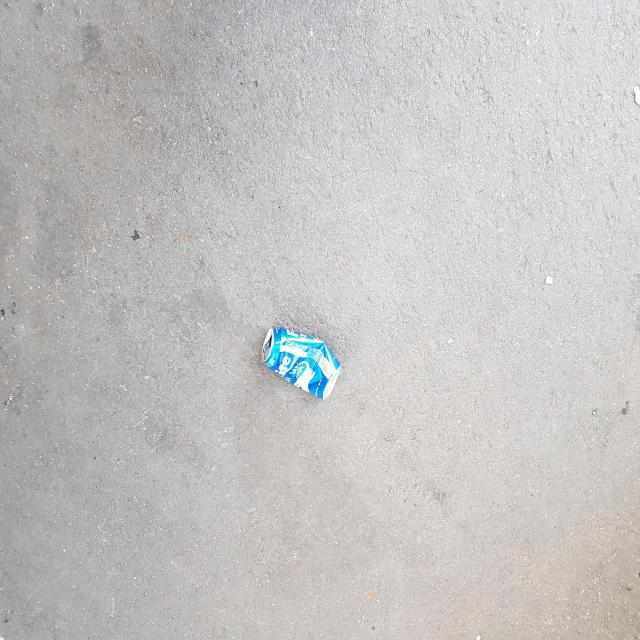can: (261, 328, 340, 400)
